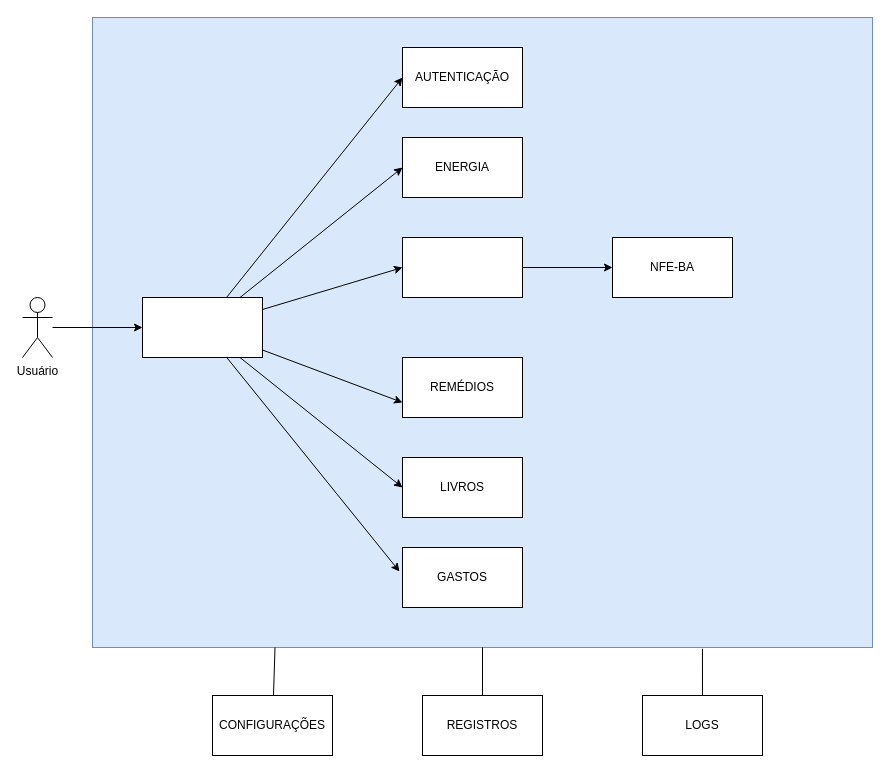
Image size: 890x773. Some labels were removed from this diagram. The centre of each missing label's shape, as x and y in pixels:
API GATEWAY: point (202, 327)
SUPERMERCADOS: point (462, 267)
